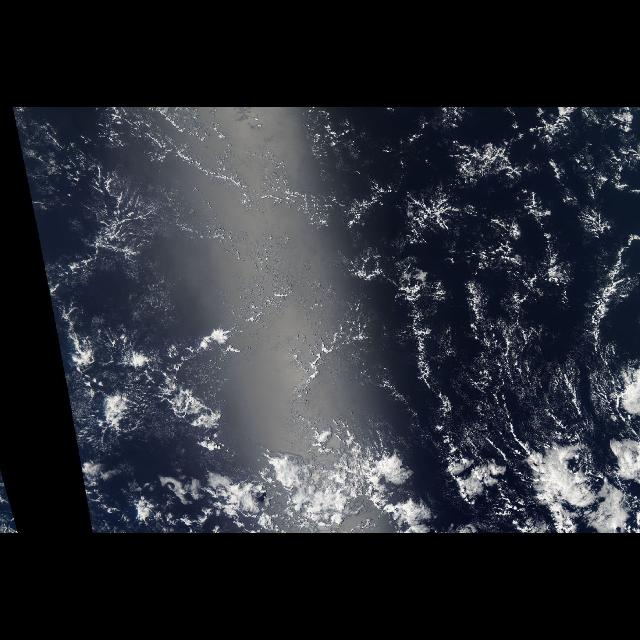Gravel: (338, 150, 640, 420)
Sugar: (48, 112, 632, 452)
